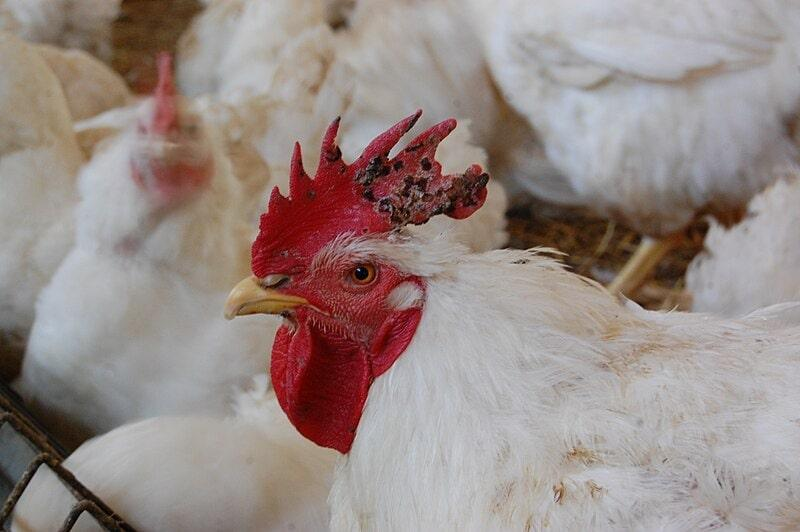AbNormal: (249, 109, 489, 278)
